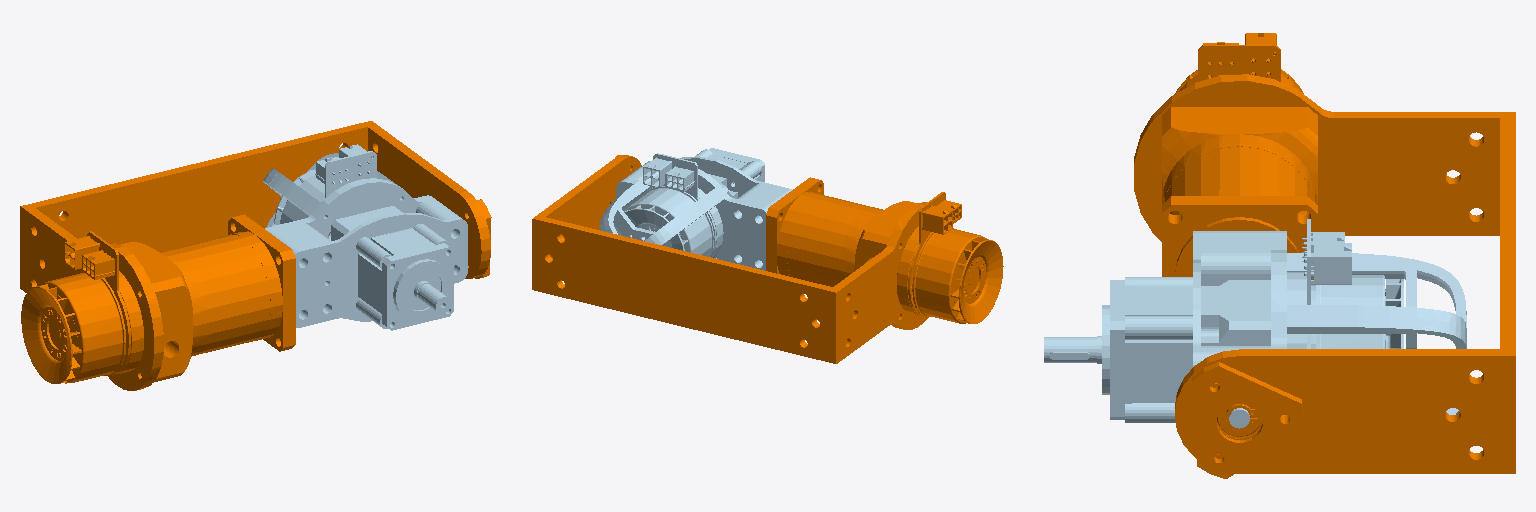
URDF robot description (leg_visual):
<?xml version="1.0"?>
<!-- Generated using onshape-to-robot -->
<!-- Onshape
https://cad.onshape.com/documents/15c938082851fbd4bacdce98/w/82abc59e7a8e49fa89bdf240/e/6eccd0fe0e79791f0e511e8b -->
<robot name="leg_visual">
  <!-- Connection to world frame -->
  <link name="world" />
  <joint name="world_to_bodysection" type="fixed">
    <parent link="world" />
    <child link="bodysectiona" />
    <origin xyz="0 0 1.0" rpy="0 0 0" />
  </joint>
  <!-- Link bodysectiona -->
  <link name="bodysectiona">
    <inertial>
      <origin xyz="0.0541647 -0.0878839 0.000234002" rpy="0 0 0" />
      <mass value="2.333" />
      <inertia ixx="0.00425967" ixy="-0.00247989" ixz="4.14274e-05" iyy="0.011561" iyz="1.17403e-05"
        izz="0.014638" />
    </inertial>
    <!-- Part bodysectiona -->
    <visual>
      <origin xyz="0 0 0" rpy="0 -0 0" />
      <geometry>
        <mesh filename="../meshes/bodysectiona.obj" />
      </geometry>
      <material name="bodysectiona_material">
        <color rgba="0.972549 0.529412 0.00392157 1.0" />
      </material>
    </visual>
    <collision>
      <origin xyz="0 0 0" rpy="0 -0 0" />
      <geometry>
        <mesh filename="../meshes/bodysectiona.obj" />
      </geometry>
    </collision>
  </link>
  <!-- Link coxamerger -->
  <link name="coxamerger">
    <inertial>
      <origin xyz="0.000391481 -0.0100851 0.0598052" rpy="0 0 0" />
      <mass value="1.5" />
      <inertia ixx="0.00233404" ixy="1.25099e-05" ixz="-2.28685e-06" iyy="0.00120555"
        iyz="5.55819e-05" izz="0.00180944" />
    </inertial>
    <!-- Part coxamerger -->
    <visual>
      <origin xyz="-7.88861e-31 0 0.0635" rpy="-1.84889e-32 -2.46519e-32 1.37434e-30" />
      <geometry>
        <mesh filename="../meshes/coxamerger.obj" />
      </geometry>
      <material name="coxamerger_material">
        <color rgba="0.768627 0.886275 0.952941 1.0" />
      </material>
    </visual>
    <collision>
      <origin xyz="-7.88861e-31 0 0.0635" rpy="-1.84889e-32 -2.46519e-32 1.37434e-30" />
      <geometry>
        <mesh filename="../meshes/coxamerger.obj" />
      </geometry>
    </collision>
  </link>
  <!-- Link femurmerger -->
  <link name="femurmerger">
    <inertial>
      <origin xyz="0.0750029 0.00474222 -0.0593829" rpy="0 0 0" />
      <mass value="1.952" />
      <inertia ixx="0.00147688" ixy="-0.0015025" ixz="0.000685788" iyy="0.0275279" iyz="4.34335e-05"
        izz="0.0271576" />
    </inertial>
    <!-- Part femurmerger -->
    <visual>
      <origin xyz="1.11022e-16 -1.05291e-17 -0.064" rpy="3.14159 2.83318e-32 -9.86076e-32" />
      <geometry>
        <mesh filename="../meshes/femurmerger.obj" />
      </geometry>
      <material name="femurmerger_material">
        <color rgba="0.917647 0.917647 0.917647 1.0" />
      </material>
    </visual>
    <collision>
      <origin xyz="1.11022e-16 -1.05291e-17 -0.064" rpy="3.14159 2.83318e-32 -9.86076e-32" />
      <geometry>
        <mesh filename="../meshes/femurmerger.obj" />
      </geometry>
    </collision>
  </link>
  <!-- Link tibiamerger -->
  <link name="tibiamerger">
    <inertial>
      <origin xyz="-0.0069932 -0.201087 4.84704e-05" rpy="0 0 0" />
      <mass value="0.219992" />
      <inertia ixx="0.0053374" ixy="-0.00010343" ixz="2.83936e-08" iyy="5.27818e-05"
        iyz="-1.28307e-08" izz="0.00534035" />
    </inertial>
    <!-- Part tibiamerger -->
    <visual>
      <origin xyz="0 0 0" rpy="-6.31089e-30 -1.92566e-29 0" />
      <geometry>
        <mesh filename="../meshes/tibiamerger.obj" />
      </geometry>
      <material name="tibiamerger_material">
        <color rgba="0.231373 0.380392 0.705882 1.0" />
      </material>
    </visual>
    <collision>
      <origin xyz="0 0 0" rpy="-6.31089e-30 -1.92566e-29 0" />
      <geometry>
        <mesh filename="../meshes/tibiamerger.obj" />
      </geometry>
    </collision>
  </link>
  <!-- Joint from femurmerger to tibiamerger -->
  <joint name="j2" type="revolute">
    <origin xyz="0.370594 -1.67738e-11 -0.064" rpy="-8.08527e-14 -1.38509e-14 -5.55112e-17" />
    <parent link="femurmerger" />
    <child link="tibiamerger" />
    <axis xyz="0 0 1" />
    <limit effort="100" velocity="1000" lower="-31.41592653589793" upper="31.41592653589793" />
    <dynamics damping="3.0" friction="50" />
  </joint>
  <!-- Joint from coxamerger to femurmerger -->
  <joint name="j1" type="revolute">
    <origin xyz="6.53411e-15 0.055 0.0635" rpy="1.5708 1.5708 0" />
    <parent link="coxamerger" />
    <child link="femurmerger" />
    <axis xyz="0 0 1" />
    <limit effort="100" velocity="1000" lower="-31.41592653589793" upper="31.41592653589793" />
    <dynamics damping="3.0" friction="50" />
  </joint>
  <!-- Joint from bodysectiona to coxamerger -->
  <joint name="j0" type="revolute">
    <origin xyz="0.0996 -0.106 -6.89634e-15" rpy="3.14159 -1.5708 0" />
    <parent link="bodysectiona" />
    <child link="coxamerger" />
    <axis xyz="0 0 1" />
    <limit effort="100" velocity="1000" lower="-31.41592653589793" upper="31.41592653589793" />
    <dynamics damping="3.0" friction="50" />
  </joint>
</robot>

--- Facts derived from the render (not from the file) ---
3 views of the same robot in one strip: view 1: azimuth 30°, elevation 25°; view 2: azimuth 150°, elevation 25°; view 3: azimuth 270°, elevation 25° (orthographic).
Model leg_visual with 5 links and 4 joints (3 revolute, 1 fixed), rooted at world, posed every joint at zero.
Visible links, largest first — view 1: bodysectiona, coxamerger; view 2: bodysectiona, coxamerger; view 3: bodysectiona, coxamerger.
Boxes of the visible links, box(x1,y1,x2,y2) form: bodysectiona: box(20, 121, 491, 390); coxamerger: box(263, 144, 467, 330); bodysectiona: box(532, 155, 1003, 363); coxamerger: box(600, 148, 791, 270); bodysectiona: box(1134, 33, 1515, 478); coxamerger: box(1044, 219, 1466, 428).
Bounding box of the posed robot: 0.2712 × 0.181 × 0.0899 m (x, y, z).
2 mesh visuals loaded from 4 distinct referenced files (2 OBJ); not drawn: 2 (reference not matched to a file when rendering).
